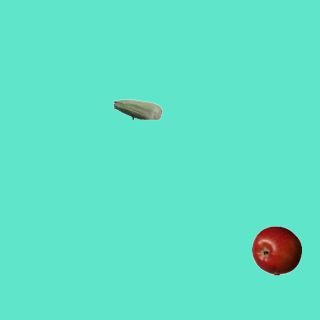Apple Braeburn: (251, 225, 301, 275)
Corn Husk: (112, 84, 162, 134)
